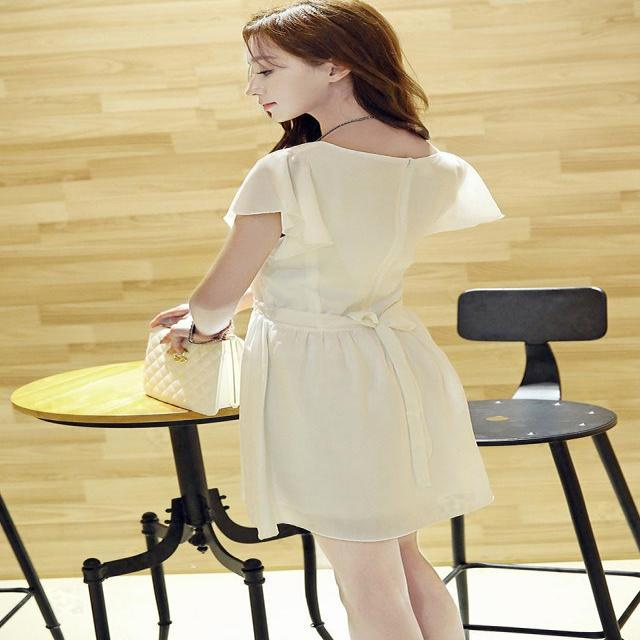short sleeve dress: (229, 143, 499, 539)
